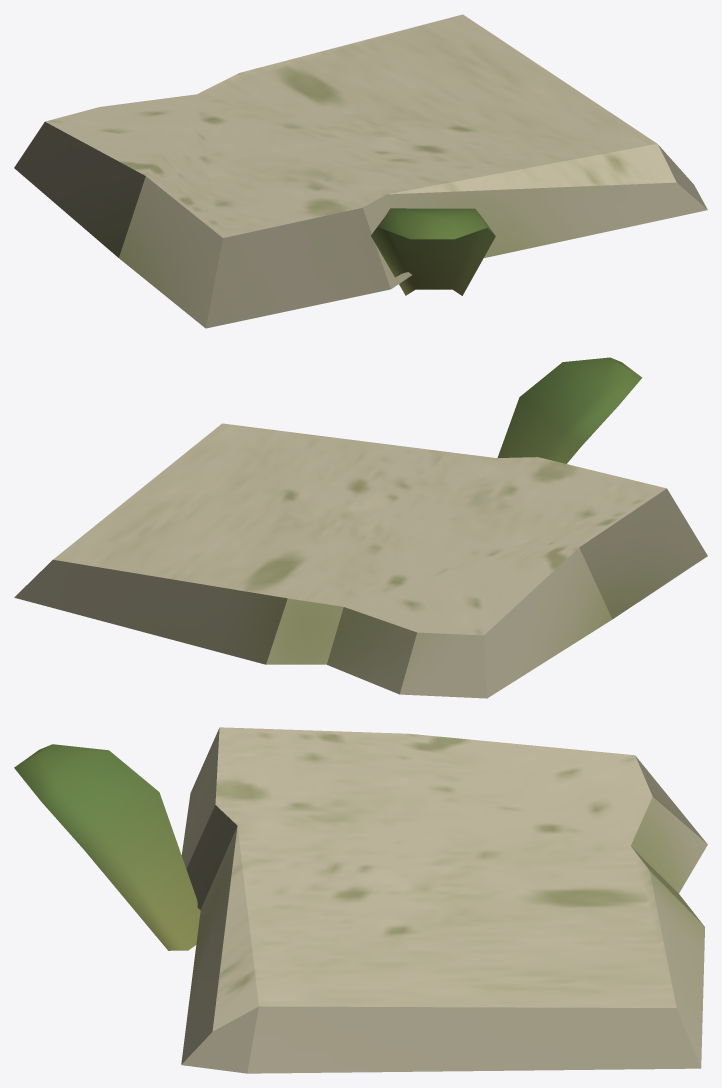
Rendered from DE_StoneGrass_03.fbx.
3 renders of one model, top to bottom at view 1: azimuth 30°, elevation 25°; view 2: azimuth 150°, elevation 25°; view 3: azimuth 270°, elevation 25°, orthographic. The views are drawn at different scales.
Parts seen in each view (by area): view 1: DE_StoneGrass_DM_01; view 2: DE_StoneGrass_DM_01; view 3: DE_StoneGrass_DM_01.
Part boxes in pixels (x1,y1,x2,y2): DE_StoneGrass_DM_01: (14, 14, 707, 328); DE_StoneGrass_DM_01: (14, 357, 707, 698); DE_StoneGrass_DM_01: (14, 727, 707, 1073).
Bounding box in the file's own units: 41.24 × 10.62 × 43.11.
